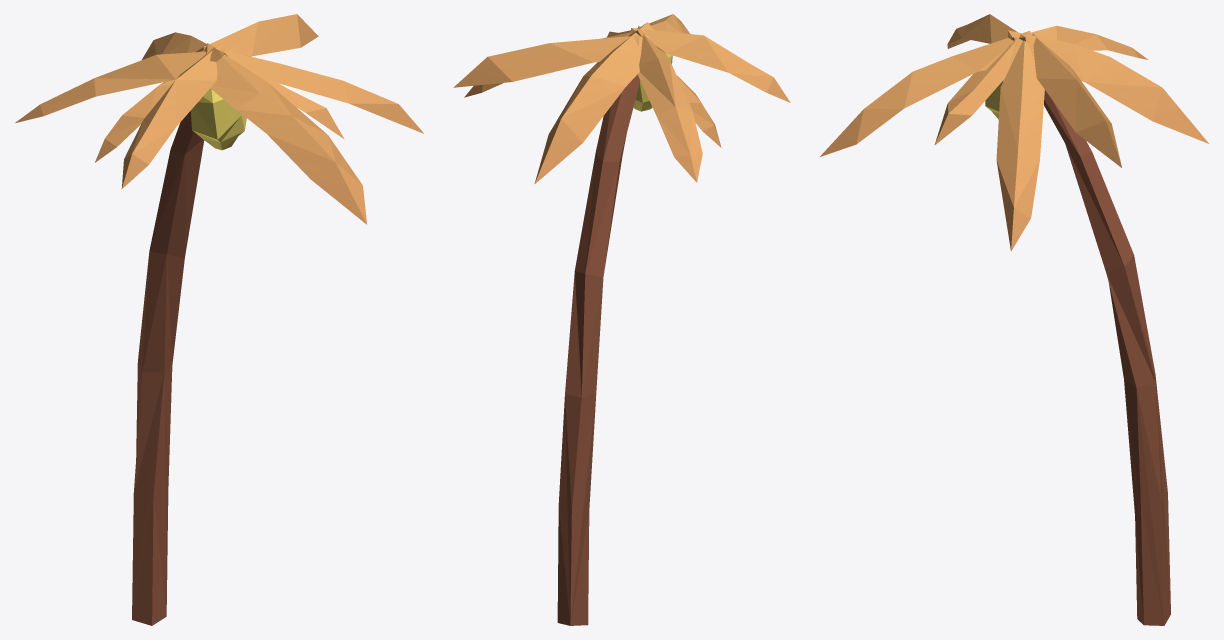
File: Tree_11_gradient_yellow_pal.fbx
3 renders of one model, left to right at view 1: azimuth 30°, elevation 25°; view 2: azimuth 150°, elevation 25°; view 3: azimuth 270°, elevation 25°, orthographic. The views are drawn at different scales.
Parts seen in each view (by area): view 1: Tree_11_gradient_yellow_pal; view 2: Tree_11_gradient_yellow_pal; view 3: Tree_11_gradient_yellow_pal.
Part boxes in pixels (x1=…): Tree_11_gradient_yellow_pal: x1=15, y1=14, x2=423, y2=625; Tree_11_gradient_yellow_pal: x1=453, y1=14, x2=790, y2=625; Tree_11_gradient_yellow_pal: x1=820, y1=14, x2=1208, y2=625.
Bounding box in the file's own units: 117 × 207 × 124.
